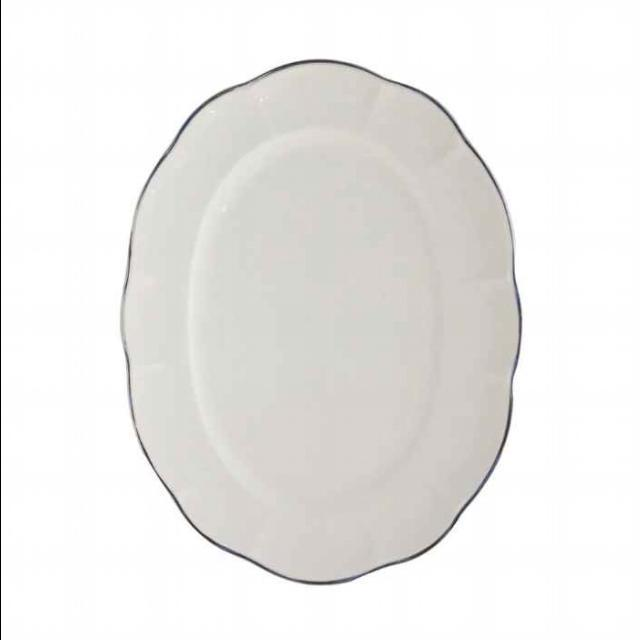plate: (117, 42, 582, 577)
